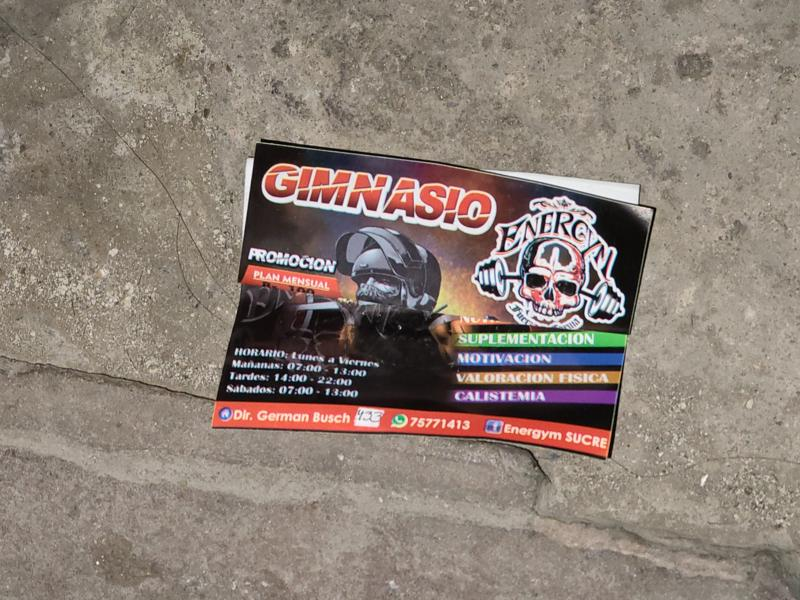papel: (210, 140, 657, 461)
